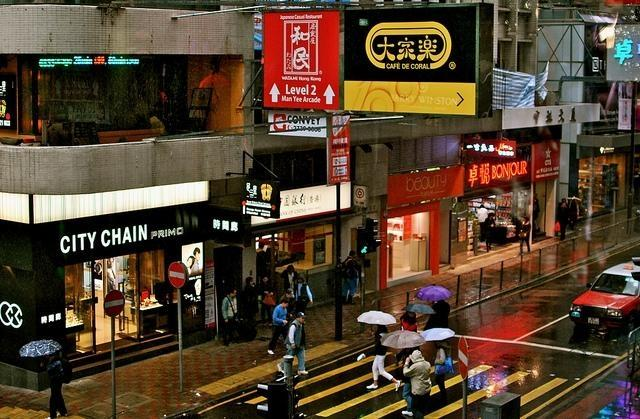car: (569, 262, 640, 332)
